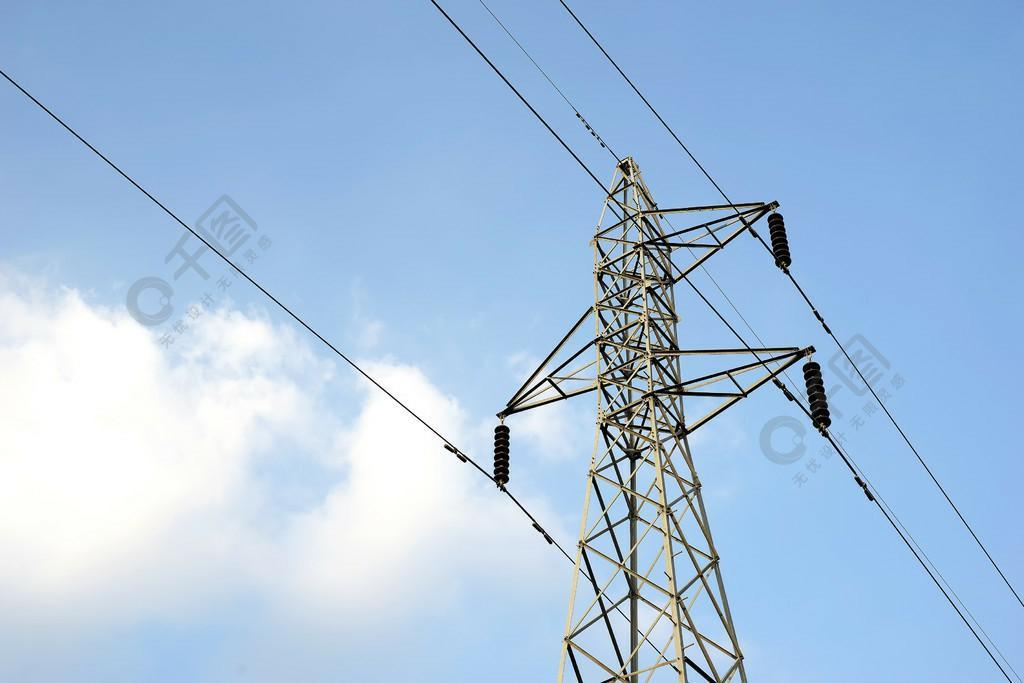power_tower: (495, 143, 833, 683)
